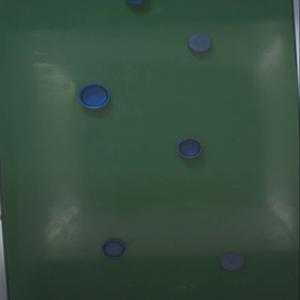dark-blue: (79, 83, 110, 109), (102, 238, 126, 259), (177, 138, 202, 158), (220, 252, 245, 272), (188, 34, 212, 53)
